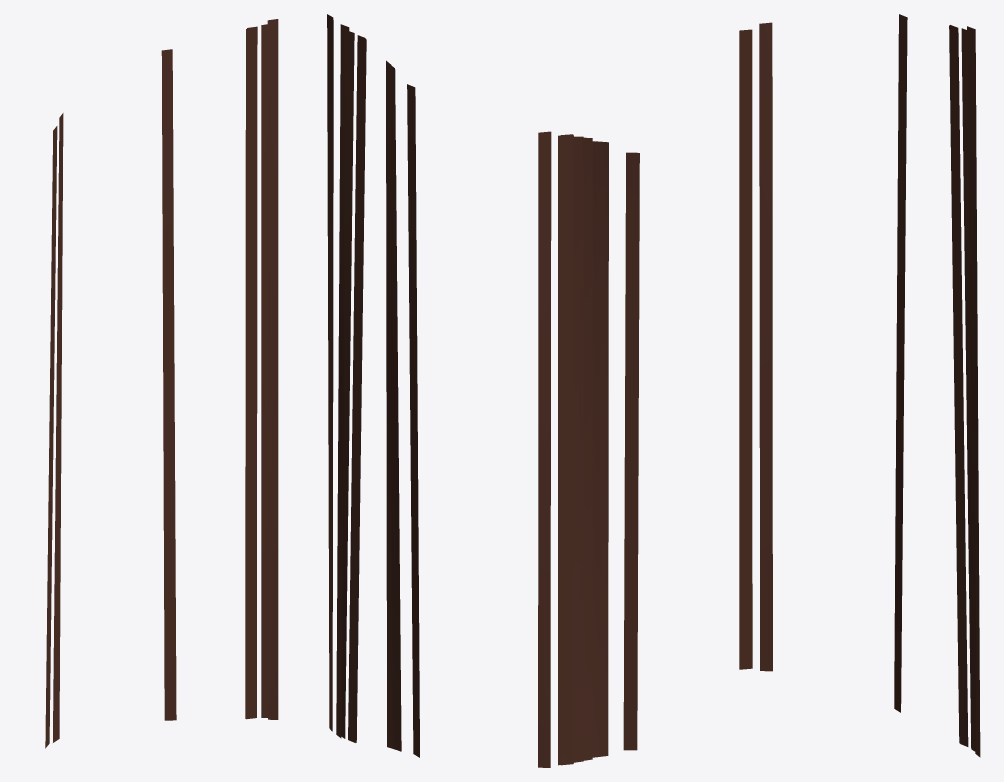
The model's file is landmark_spire_detail2.glb.
3 renders of one model, left to right at view 1: azimuth 30°, elevation 25°; view 2: azimuth 150°, elevation 25°; view 3: azimuth 330°, elevation 25°, orthographic. The views are drawn at different scales.
Parts seen in each view (by area): view 1: landmark_spire_detail2; view 2: landmark_spire_detail2; view 3: landmark_spire_detail2.
Boxes of the visible parts, x1,y1,x2,y2 form: landmark_spire_detail2: (45,19,278,748); landmark_spire_detail2: (327,14,639,767); landmark_spire_detail2: (739,14,980,757).
Bounding box in the file's own units: 19.36 × 44.06 × 4.65.
